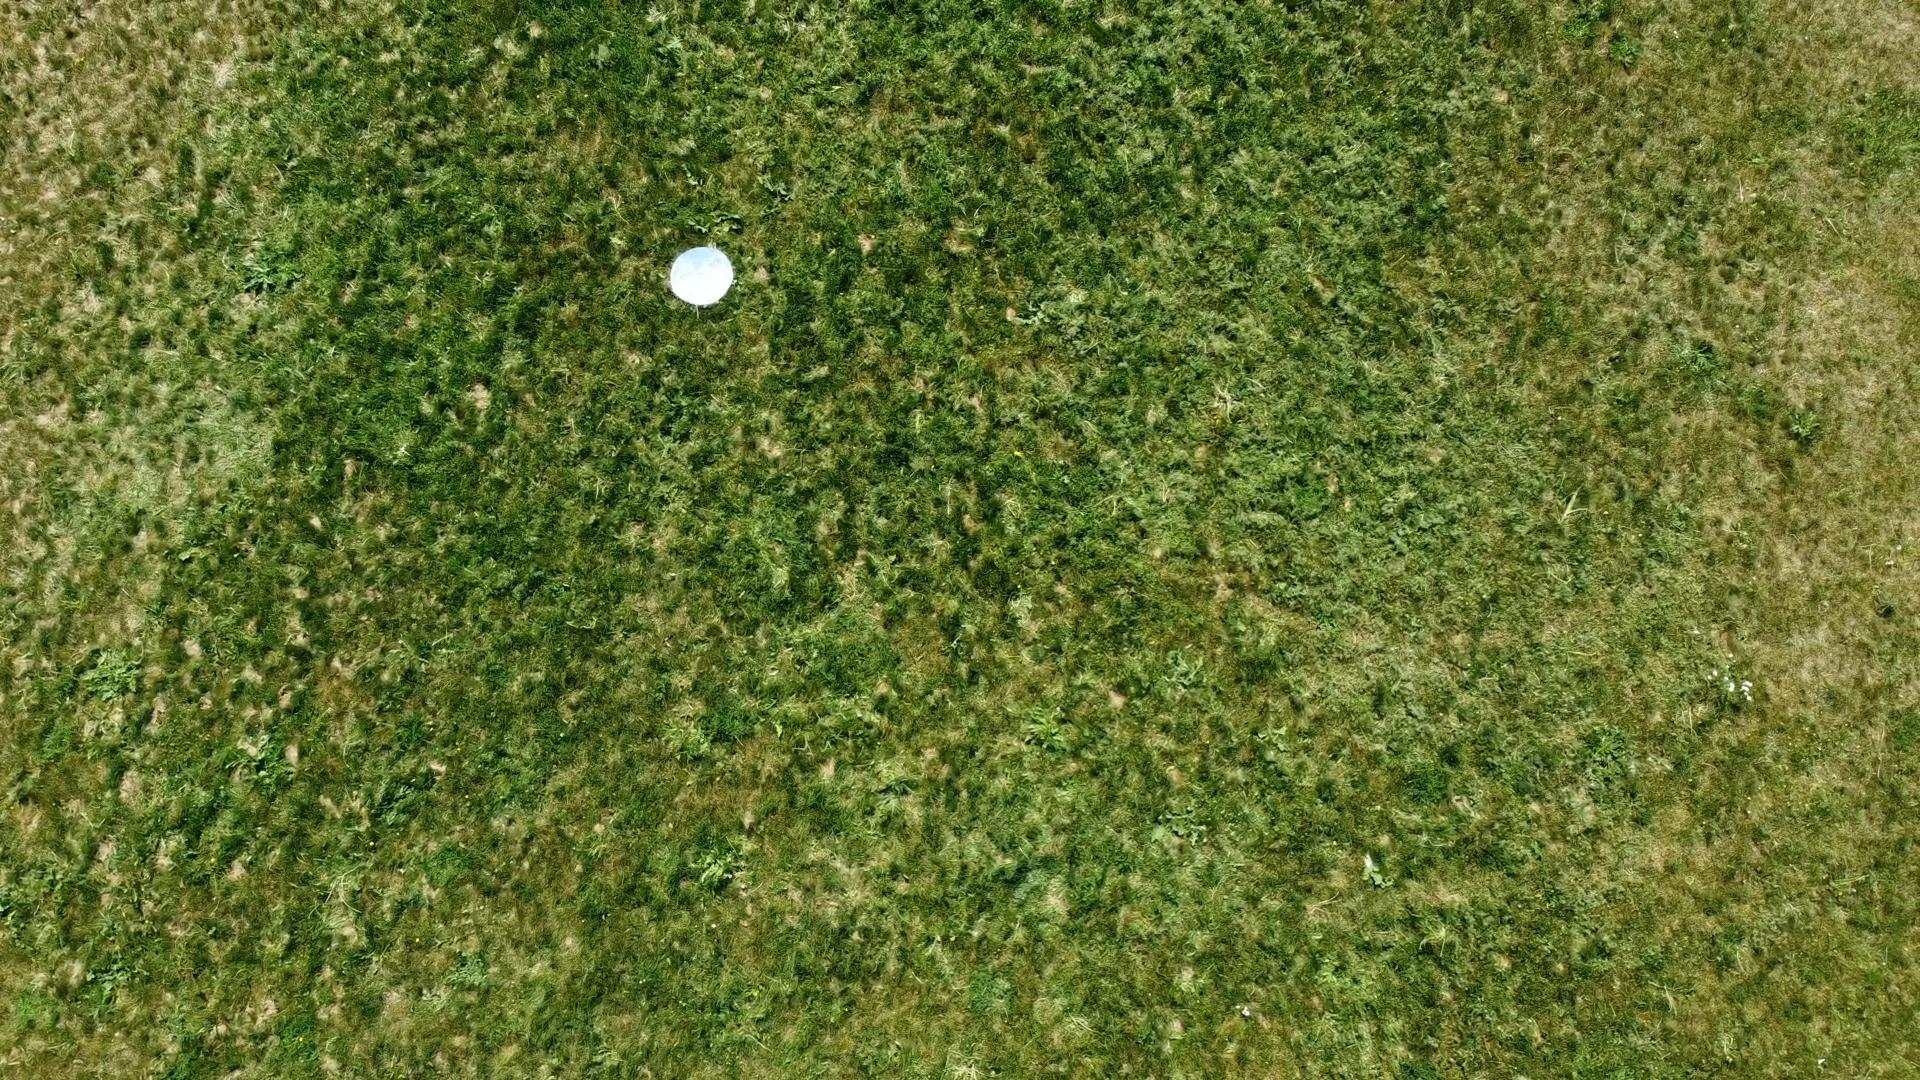Blue: (667, 244, 736, 309)
